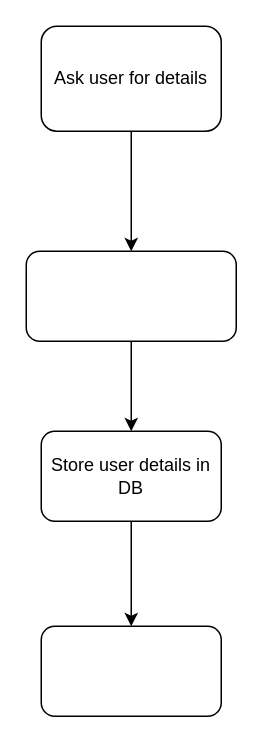
This 263x743 diagram has some shape labels left out. Here are the shapes that lost their labels. From the top down, the centre of each, then its label:
At point 130,295: "API call based on location".
At point 130,670: "Send Email to user".
